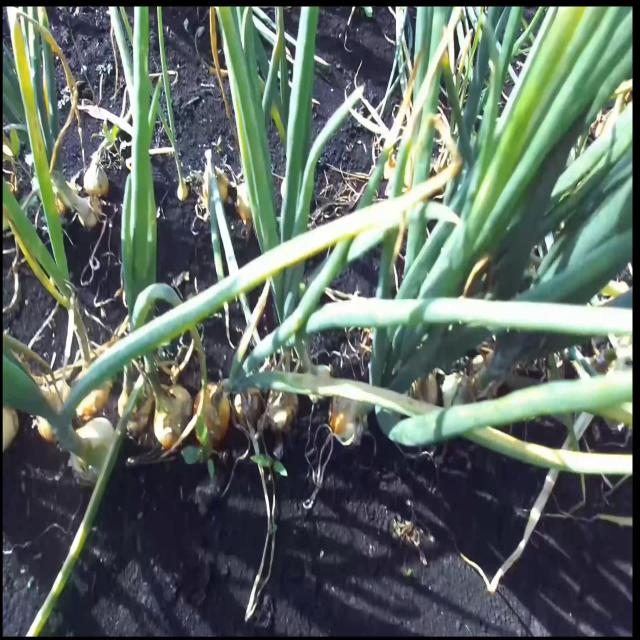onion: (69, 422, 112, 485), (150, 380, 191, 444), (331, 386, 369, 446), (194, 385, 227, 445), (266, 386, 295, 432), (118, 388, 146, 434), (200, 165, 228, 210), (72, 189, 101, 230), (82, 156, 109, 197), (233, 386, 257, 432)
